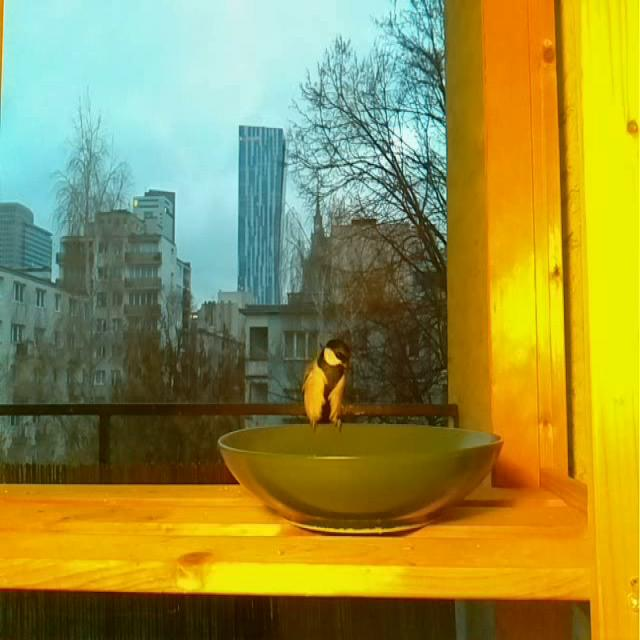Bogatka: (298, 335, 354, 429)
